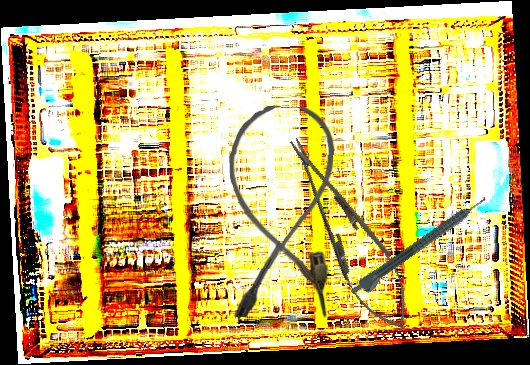Cannula: (226, 105, 335, 319)
Handpiece: (348, 193, 493, 303)
Needle Holder: (271, 126, 427, 342)
